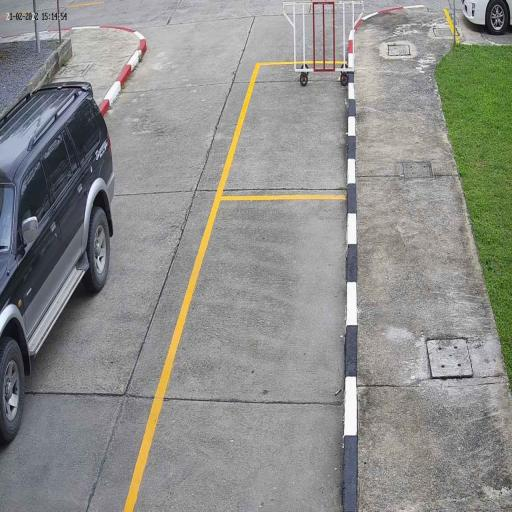car: (0, 80, 116, 443)
